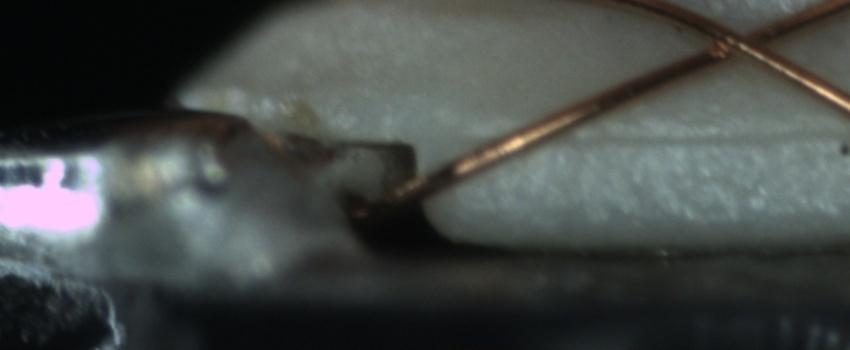CL: (689, 13, 793, 70)
DL: (558, 108, 849, 172)
